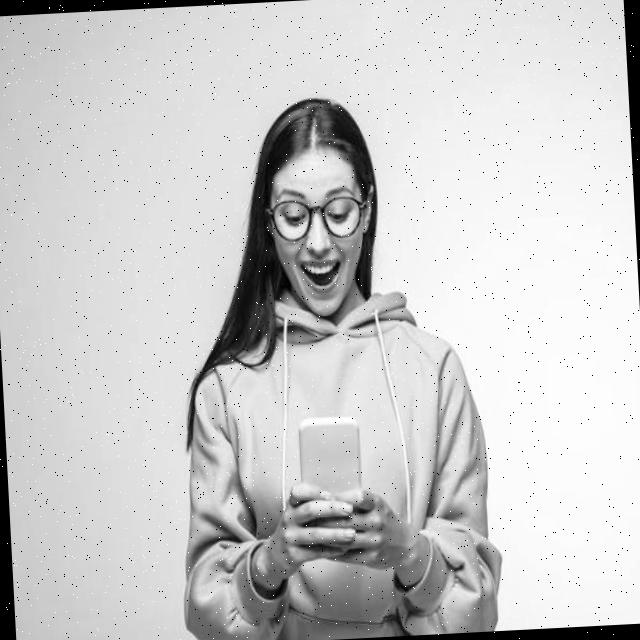Surprised: (270, 154, 371, 322)
